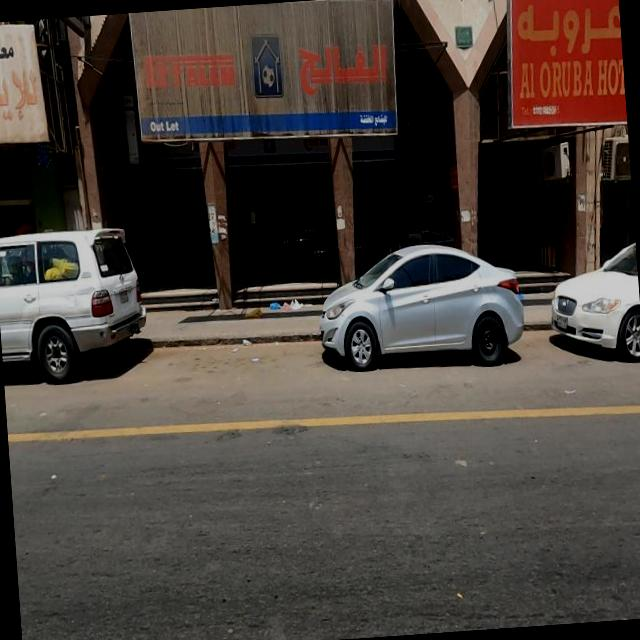debris: (0, 0, 540, 237), (217, 309, 286, 391), (252, 274, 322, 331), (230, 286, 276, 337), (196, 276, 232, 322)
